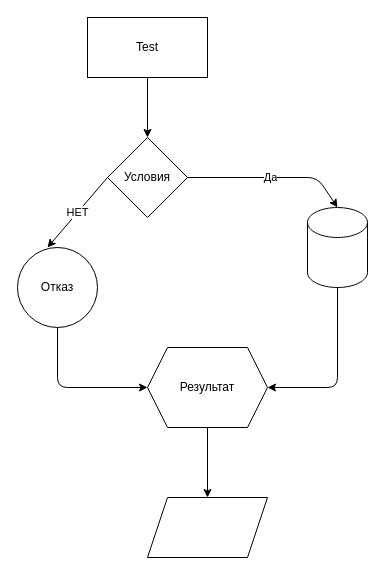
Some shapes in this 385 by 575 pixel diagram are drawn without their labels. Each missing label, with the centre of its shape:
БД: point 337,247
Финиш: point 207,527
